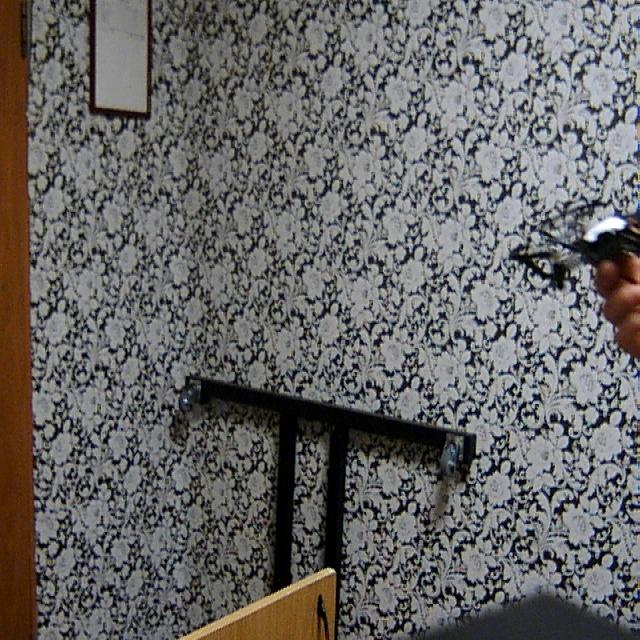drone: (509, 179, 640, 305)
